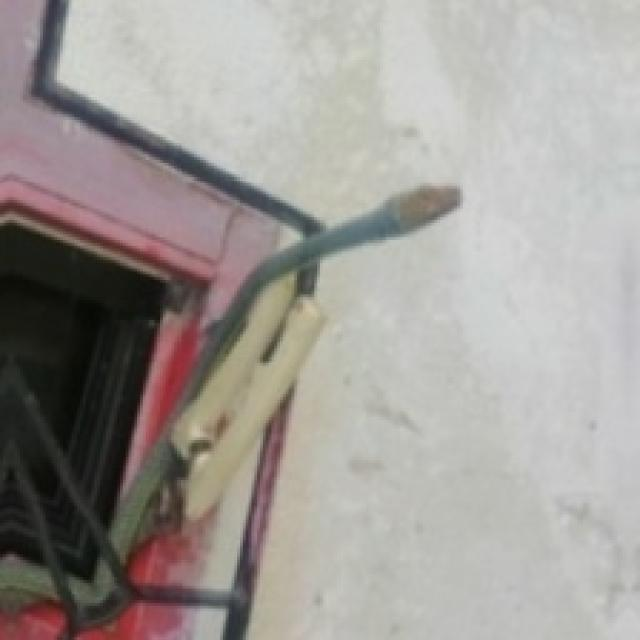paradise tree snake: (0, 186, 457, 637), (180, 437, 263, 589)
